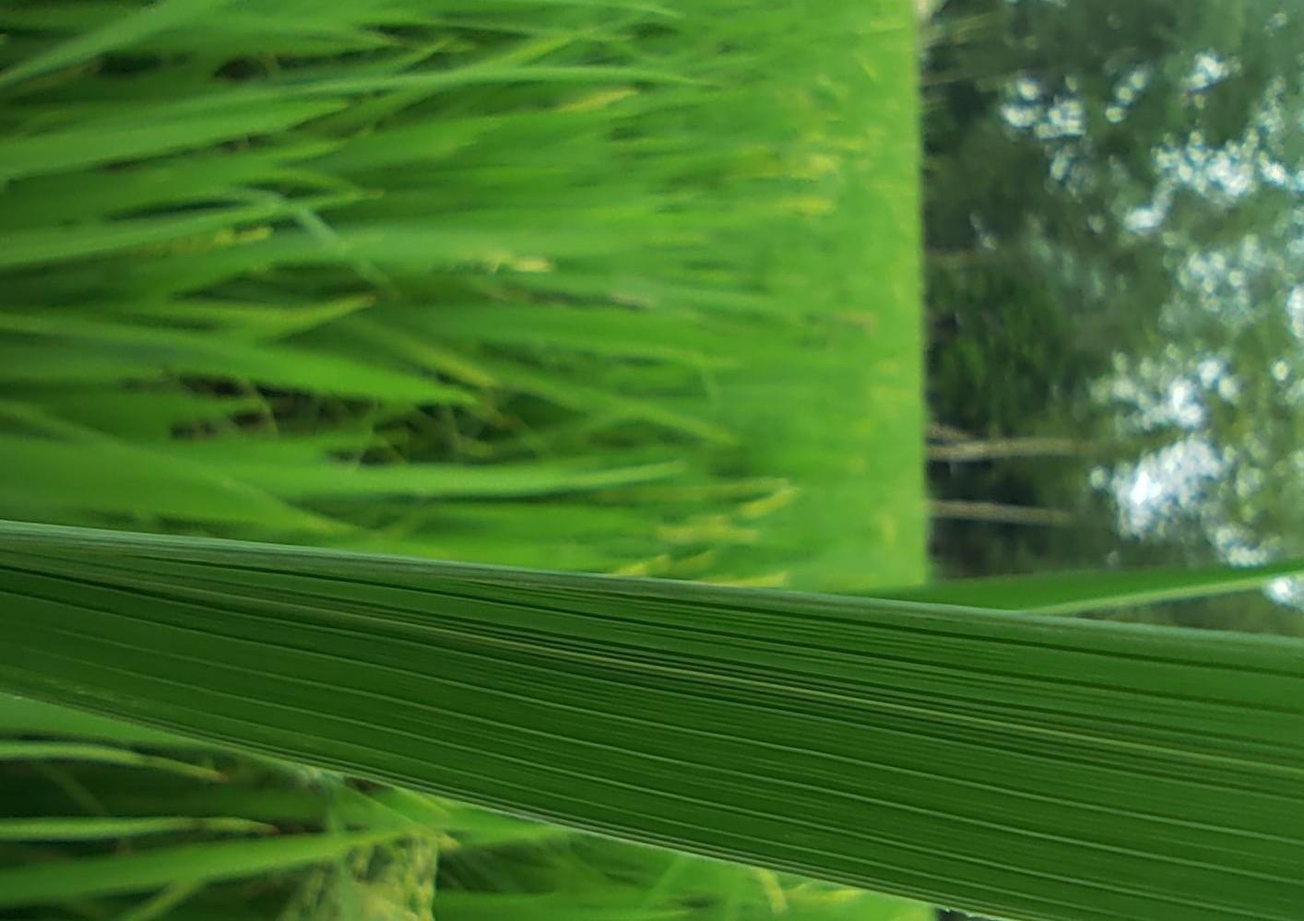Healthy: (0, 522, 1303, 920)
